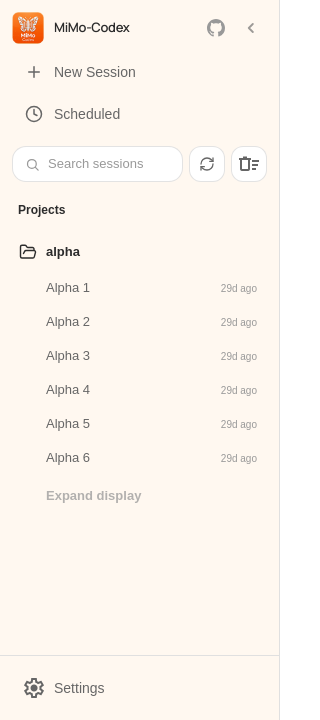
Test: Sidebar › uses a bounded per-project session scroller for large expanded groups
Click the button "Expand display" at (94, 496), box [46, 482, 141, 510]
(page scrolled)
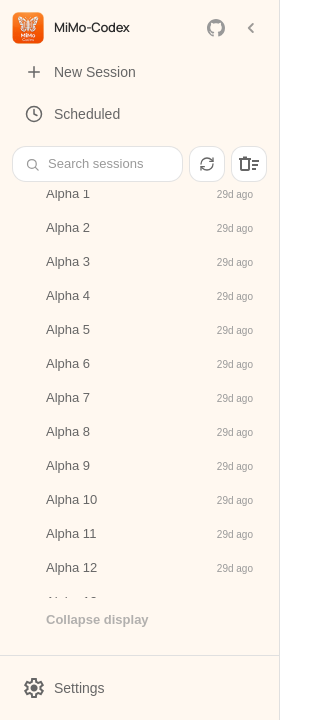
Result: the button "Collapse display" is expanded at [46, 606, 149, 634]
